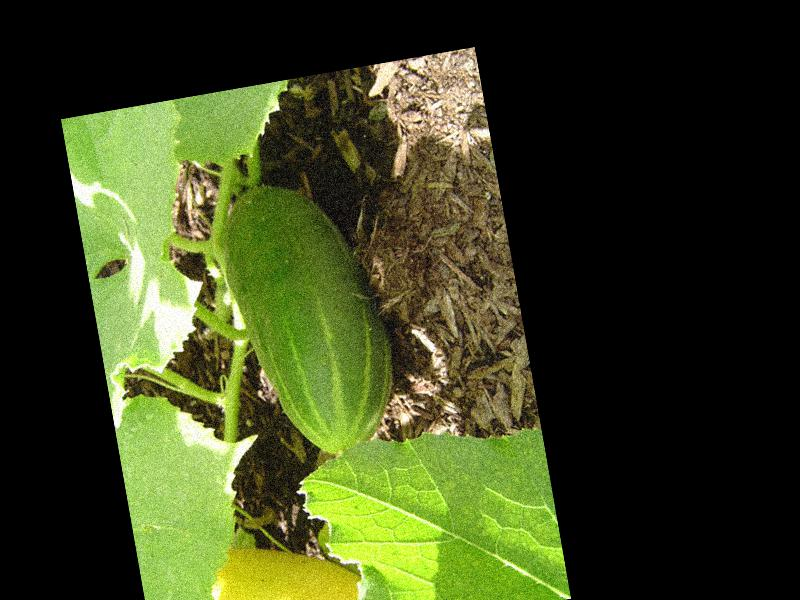Cucumber: (210, 167, 408, 468)
